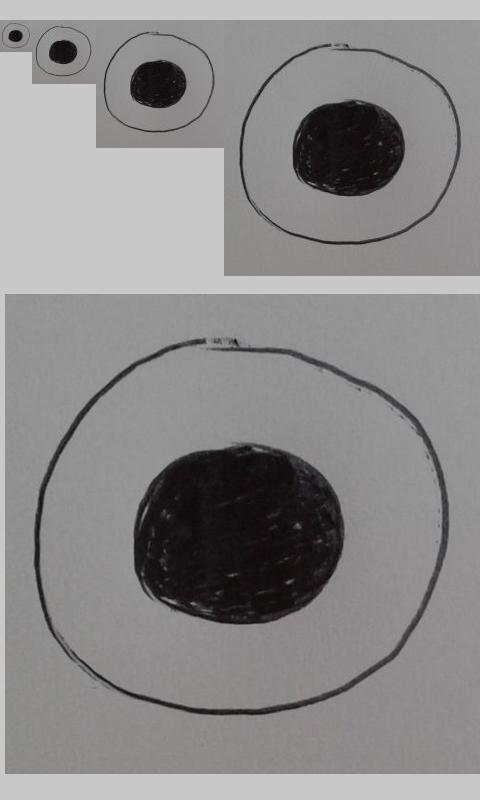radio_button: (29, 333, 453, 719), (237, 41, 463, 247), (102, 30, 216, 133), (35, 25, 92, 77), (1, 22, 31, 49)
